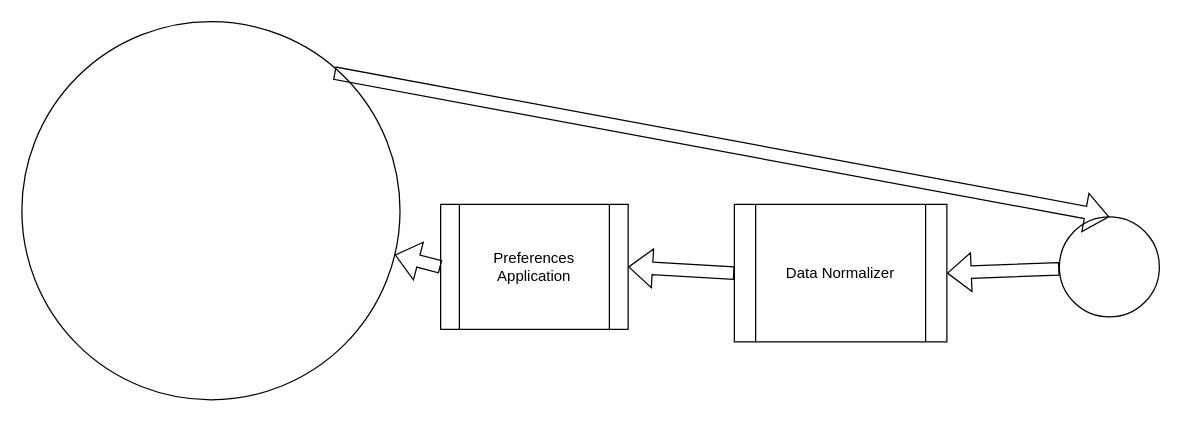
The diagram is 1181 pixels wide and 423 high, and some of its shapes have lost their labels. Here are the shapes that lost their labels. From the top down, the centre of each, then its label:
At point 210,210: "User Data Repository".
At point 1108,266: "API".
